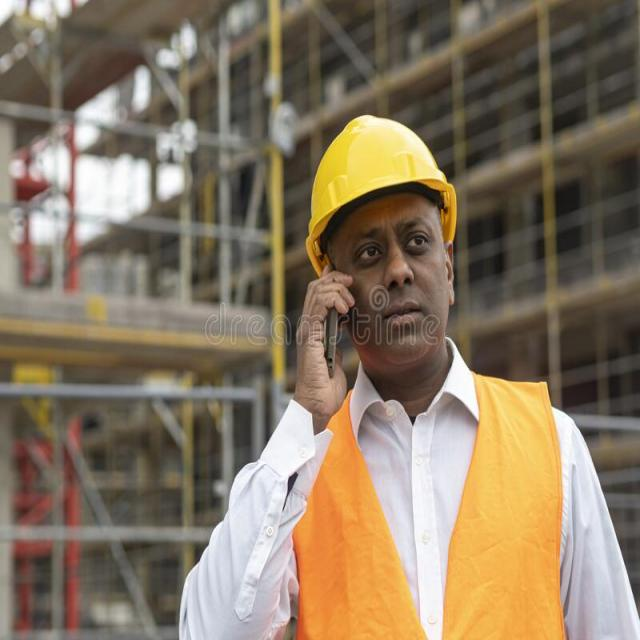Reflective-Jacket: (286, 369, 566, 640)
Safety-Helmet: (302, 109, 461, 240)
